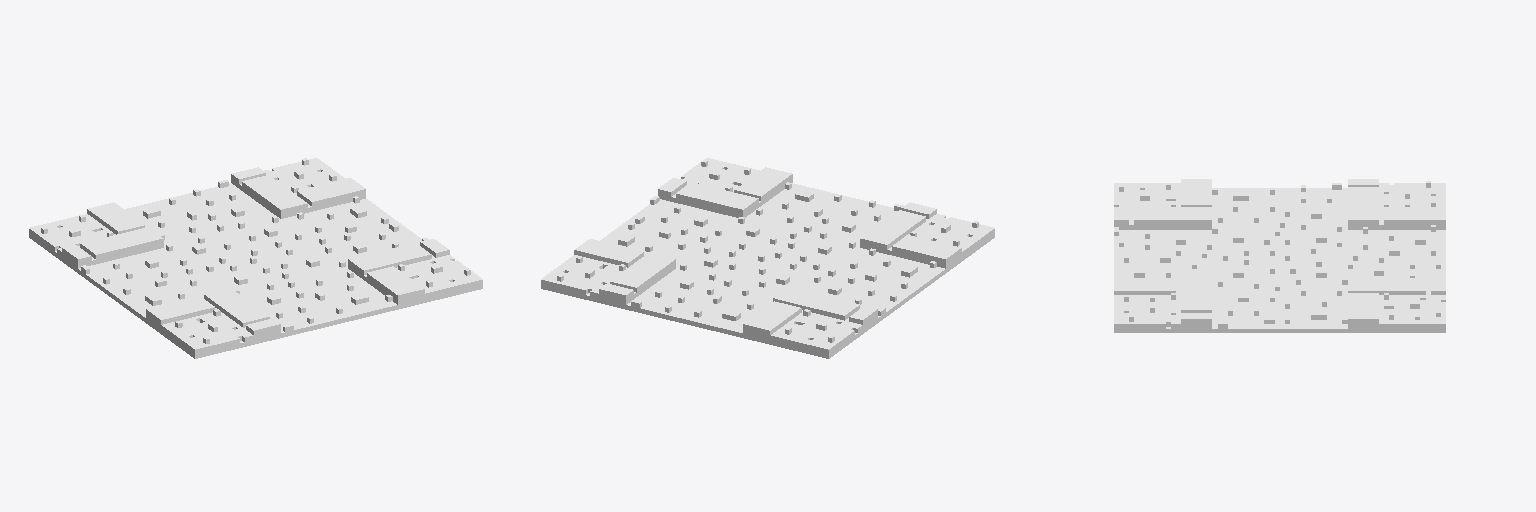
The model's file is EarthenPath4Fork_1.obj.
3 renders of one model, left to right at view 1: azimuth 30°, elevation 25°; view 2: azimuth 150°, elevation 25°; view 3: azimuth 270°, elevation 25°, orthographic.
Parts seen in each view (by area): view 1: EarthenPath4Fork_1; view 2: EarthenPath4Fork_1; view 3: EarthenPath4Fork_1.
Part boxes in pixels (x1,y1,x2,y2): EarthenPath4Fork_1: (29,158,482,358); EarthenPath4Fork_1: (541,158,994,358); EarthenPath4Fork_1: (1114,179,1445,332).
Size of the model in its own units: 1 by 0.0469 by 1.